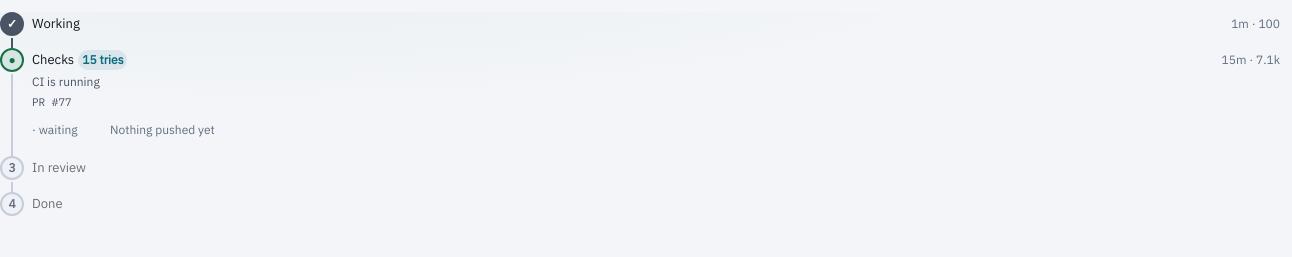
Test: Loop steps as a list › collapses 15 identical refusals into one try line with ×15, and keeps lines short
This screenshot has width=1292, height=257.
Click the button "Checks 15 tries 15m · 7.1k". click: (53, 60)
box: 32,48 -> 1280,72
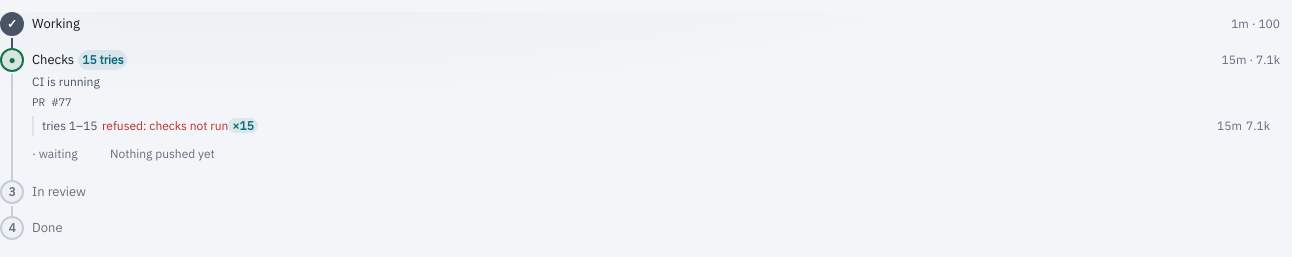
Check: the number of elements with class "att" is 1, box 42,116 -> 1280,136
Check: the element with class "att" shows "×15", box 42,116 -> 1280,136
Check: the element with class "att" shows "refused: checks not run", box 102,118 -> 228,133
